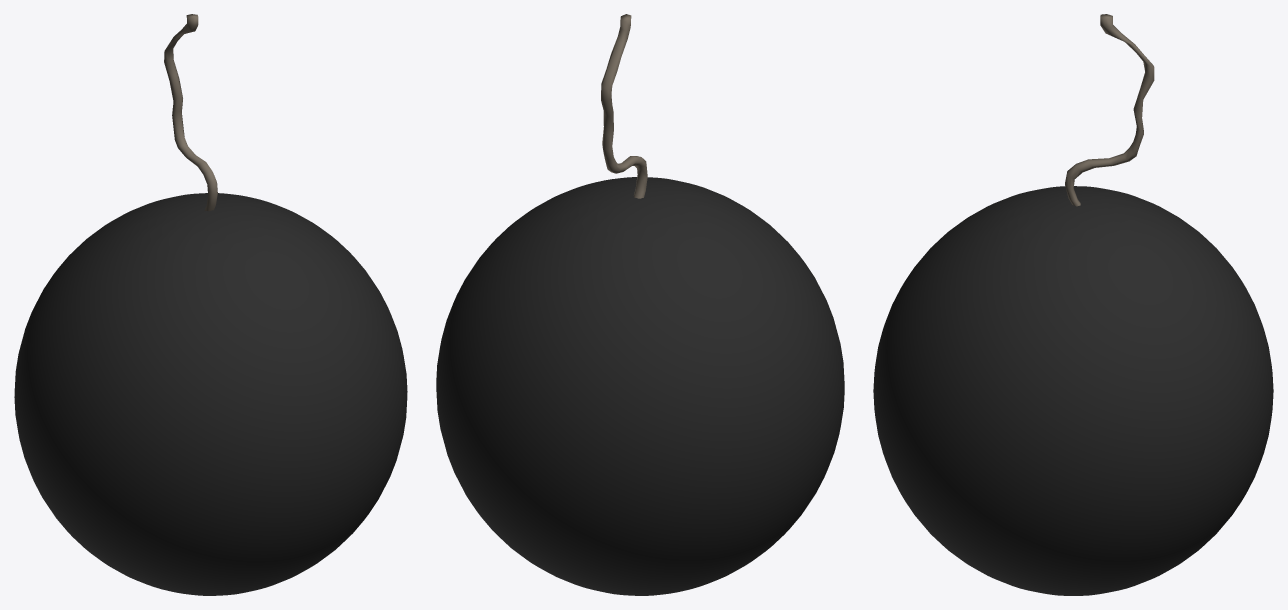
File: Bomb.fbx
3 renders of one model, left to right at view 1: azimuth 30°, elevation 25°; view 2: azimuth 150°, elevation 25°; view 3: azimuth 270°, elevation 25°, orthographic. The views are drawn at different scales.
Parts seen in each view (by area): view 1: Sphere.001, NurbsPath.001; view 2: Sphere.001, NurbsPath.001; view 3: Sphere.001, NurbsPath.001.
Part boxes in pixels (box(x1,y1,x2,y2)): Sphere.001: box(14, 193, 407, 595); NurbsPath.001: box(164, 14, 217, 211); Sphere.001: box(436, 177, 844, 595); NurbsPath.001: box(601, 14, 647, 198); Sphere.001: box(873, 186, 1273, 595); NurbsPath.001: box(1065, 14, 1154, 206).
Size of the model in its own units: 621 by 963 by 621.
